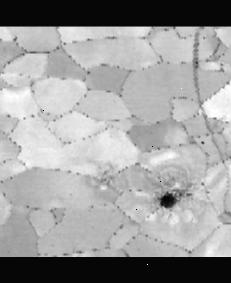good_void: (147, 188, 187, 220), (90, 162, 117, 190), (199, 138, 206, 145), (201, 34, 207, 42), (229, 130, 231, 135)
